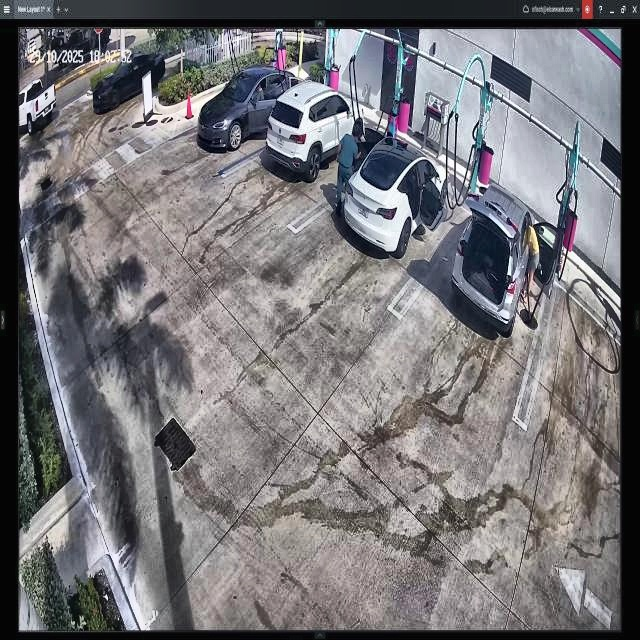Car: (455, 184, 558, 332), (346, 127, 451, 262), (264, 89, 366, 187), (197, 67, 297, 157)
